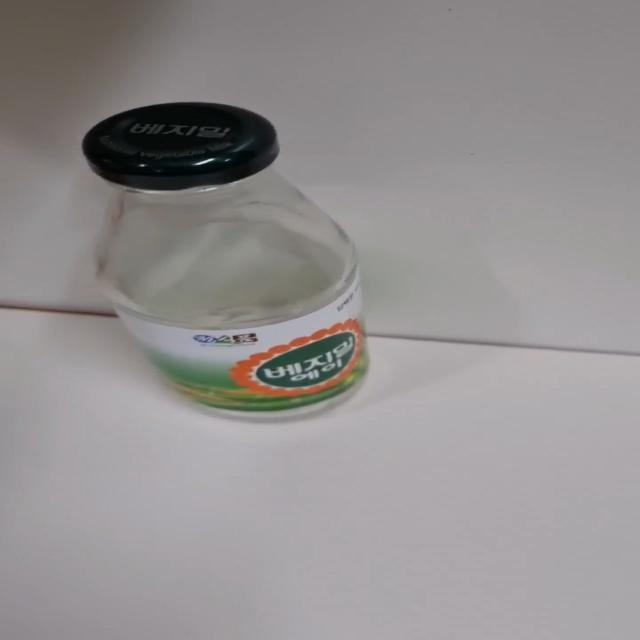Glass: (79, 102, 370, 423)
